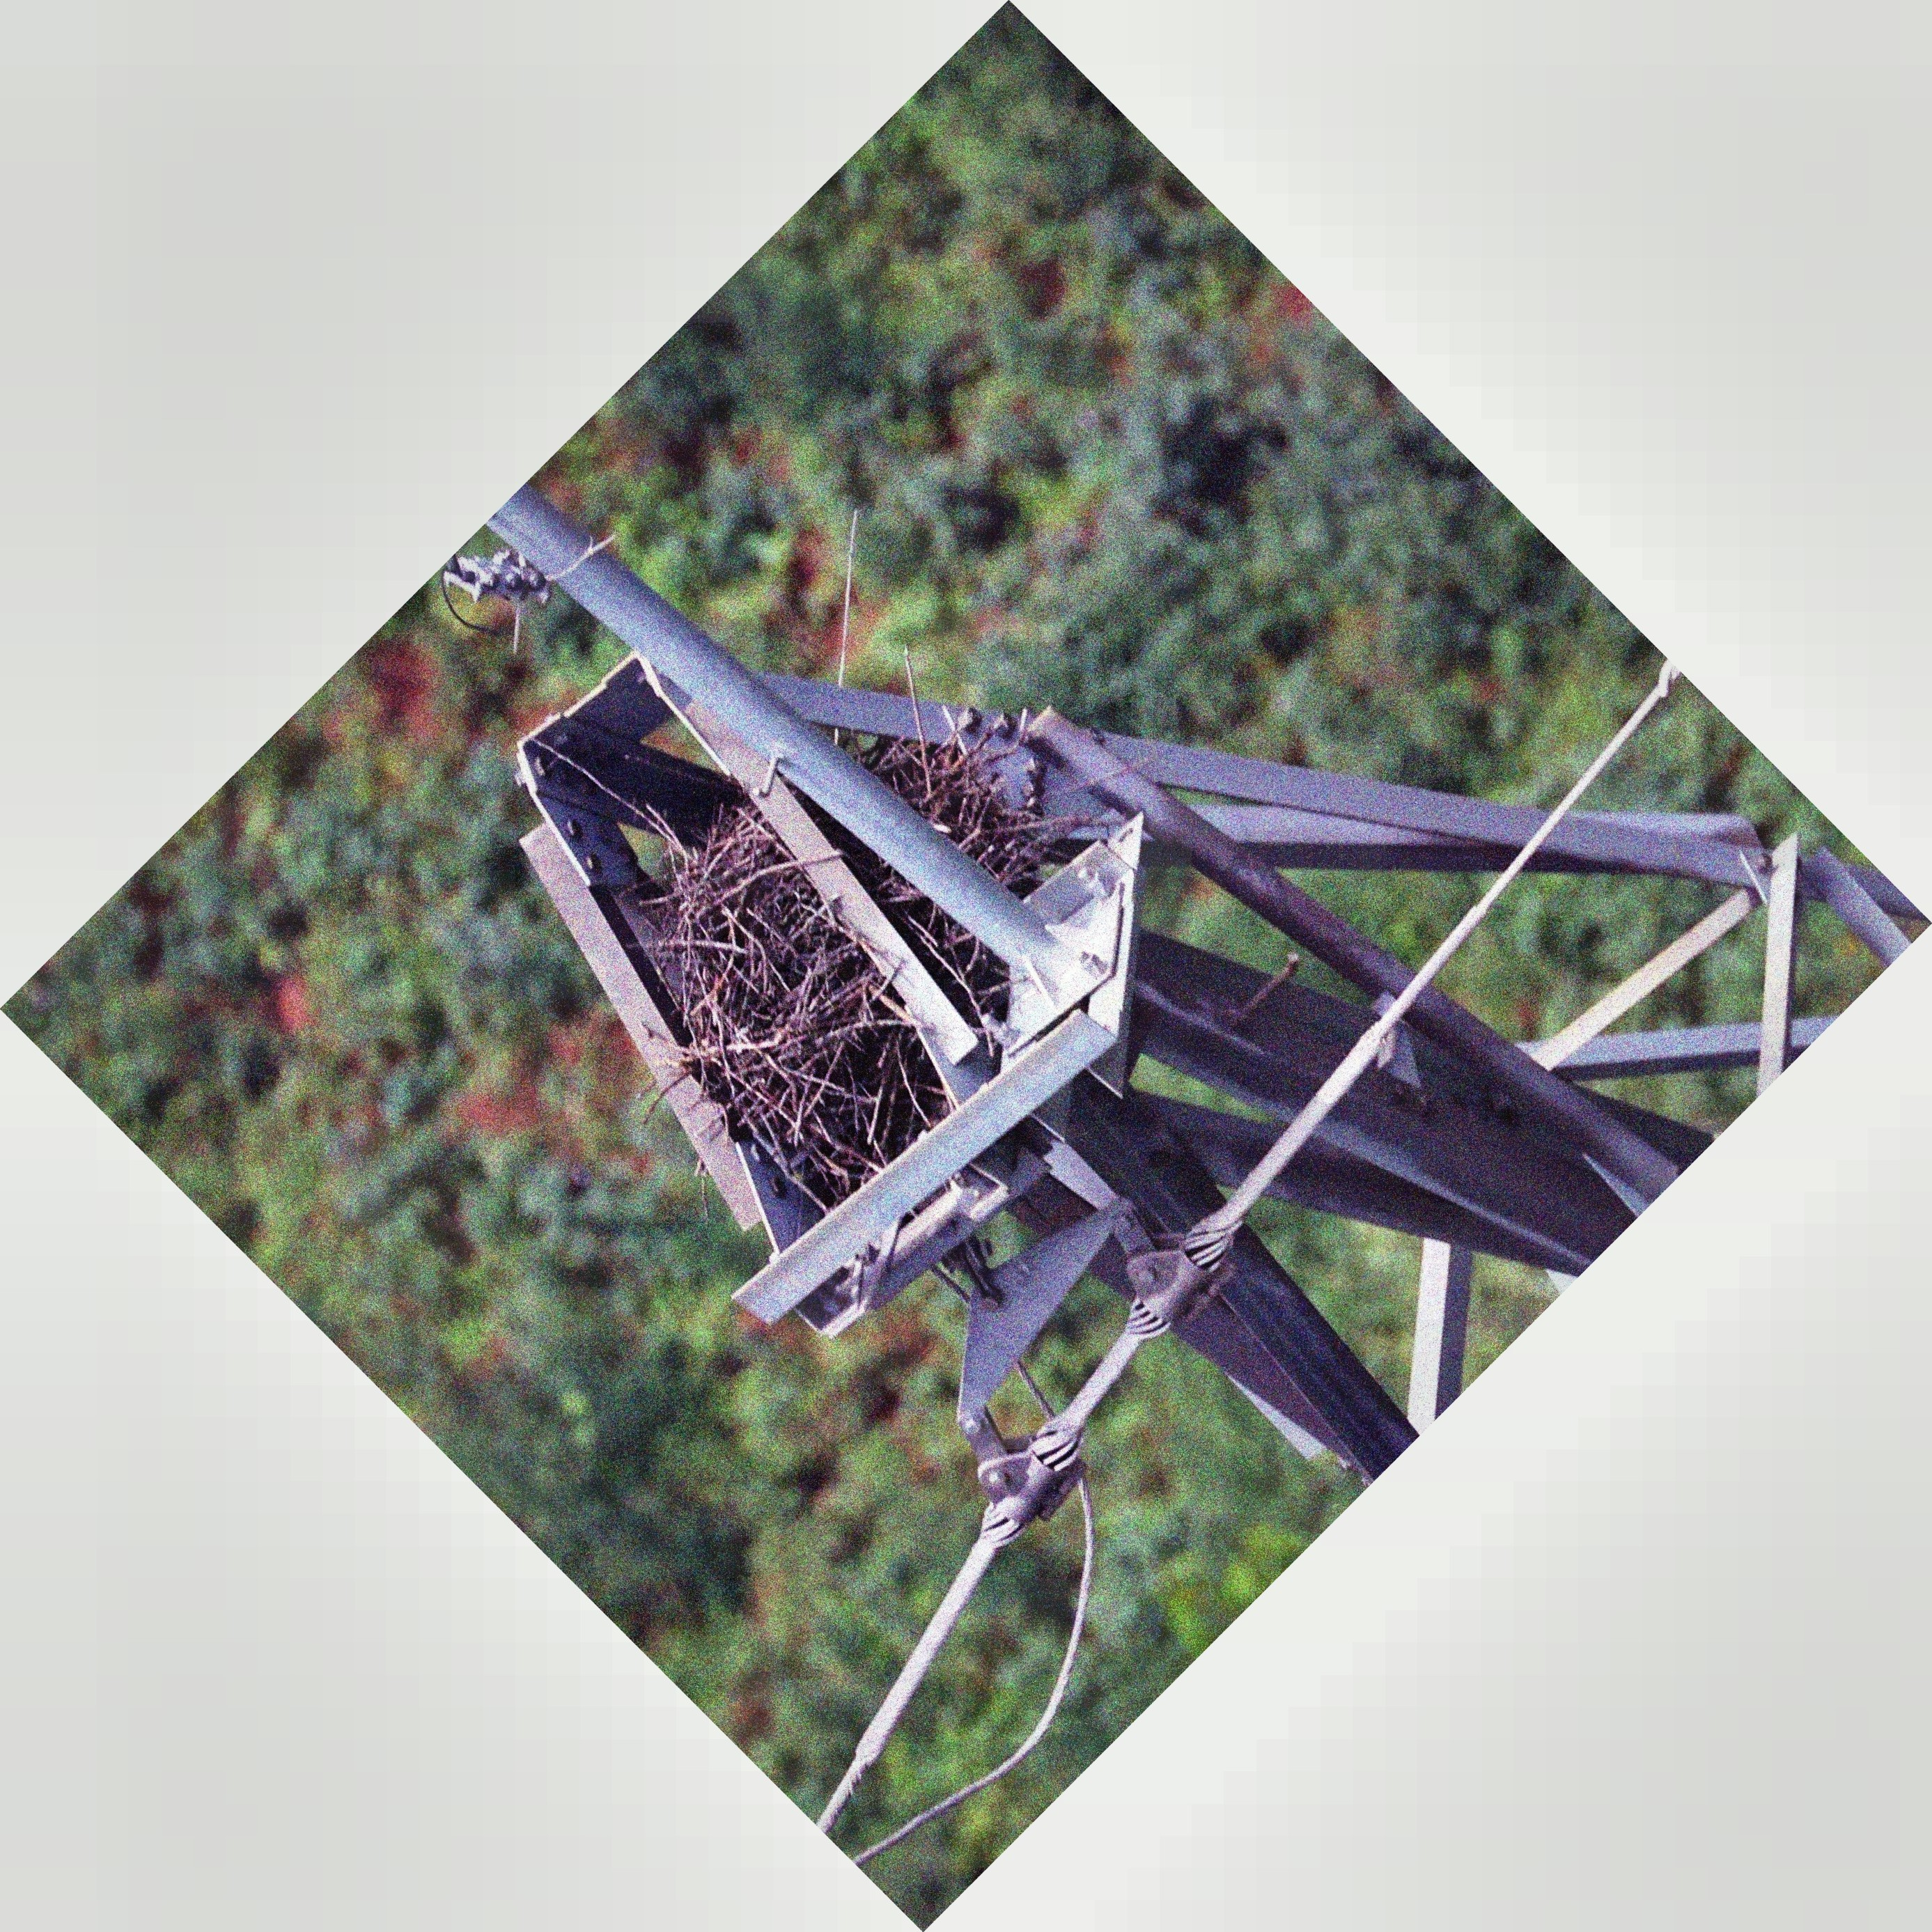niaowo: (619, 708, 1077, 1226)
